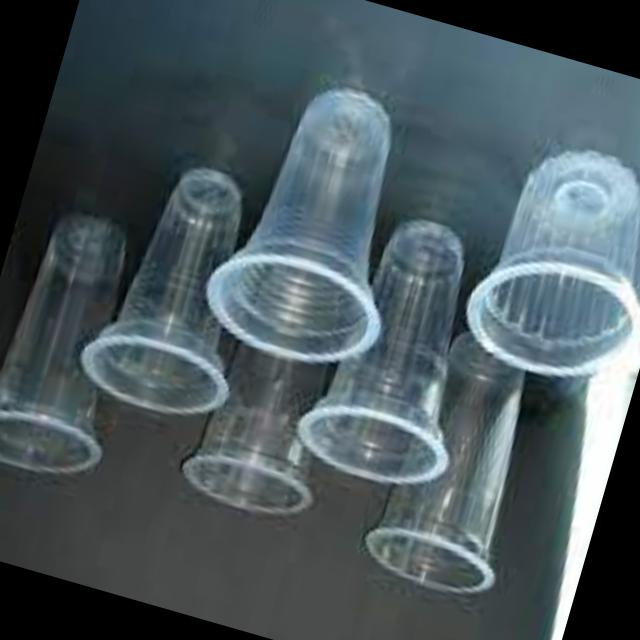GelasPlastik: (186, 59, 438, 388), (286, 183, 516, 508), (350, 316, 556, 616), (74, 152, 283, 440), (0, 189, 168, 507), (450, 122, 640, 403), (166, 303, 360, 542)
